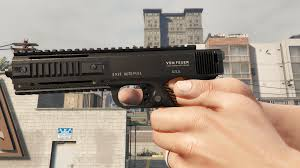gun: (4, 43, 231, 126)
